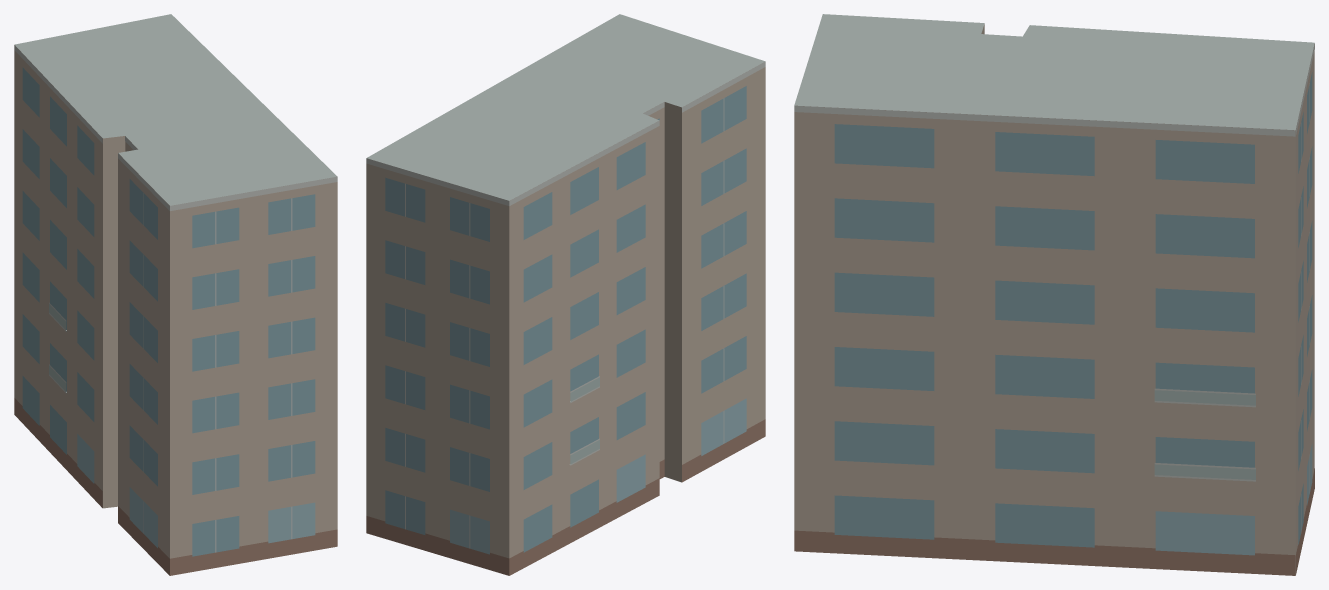
File: survey-upis-32567421.glb
3 views of the same model, side by side, from view 1: azimuth 30°, elevation 25°; view 2: azimuth 150°, elevation 25°; view 3: azimuth 270°, elevation 25° (orthographic). The views are drawn at different scales.
Parts seen in each view (by area): view 1: survey-upis-32567421.tmp; view 2: survey-upis-32567421.tmp; view 3: survey-upis-32567421.tmp.
Part boxes in pixels (x1,y1,x2,y2): survey-upis-32567421.tmp: (14, 14, 337, 575); survey-upis-32567421.tmp: (366, 14, 765, 575); survey-upis-32567421.tmp: (794, 14, 1314, 575).
Size of the model in its own units: 9.52 by 17 by 18.01.
